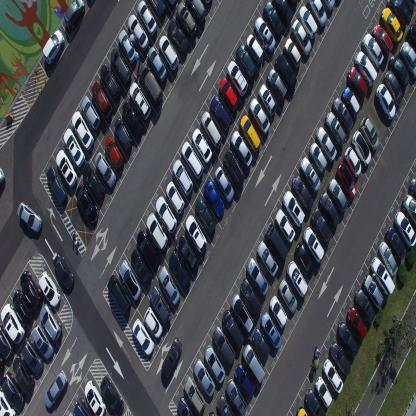car: (139, 62, 163, 108), (107, 272, 132, 314), (230, 292, 254, 335), (0, 303, 25, 344), (118, 258, 142, 300), (370, 255, 395, 295), (265, 222, 289, 263), (43, 370, 68, 409), (212, 325, 235, 367), (180, 141, 204, 181), (75, 184, 99, 224), (99, 375, 123, 415), (136, 228, 158, 271), (243, 343, 266, 384), (82, 162, 106, 201), (1, 371, 25, 410), (222, 308, 244, 350), (168, 250, 191, 290), (149, 284, 172, 324), (72, 110, 95, 150), (131, 317, 154, 357), (31, 321, 54, 361), (12, 353, 35, 393), (274, 52, 297, 92), (302, 225, 325, 265), (393, 210, 416, 250), (41, 27, 65, 65), (239, 114, 261, 155), (230, 129, 252, 170), (146, 211, 168, 252), (155, 194, 177, 235), (46, 165, 68, 206), (158, 265, 180, 306), (63, 127, 85, 168), (20, 268, 42, 309), (160, 337, 182, 378), (55, 148, 78, 187), (16, 200, 42, 234), (203, 178, 225, 218), (184, 214, 206, 254), (222, 150, 244, 190), (246, 257, 268, 297), (129, 81, 151, 121), (240, 277, 262, 317), (38, 269, 60, 309), (292, 174, 314, 214), (286, 260, 309, 298), (39, 302, 62, 340), (183, 376, 206, 414), (282, 190, 305, 228), (354, 50, 377, 88), (94, 152, 118, 188), (200, 110, 221, 151), (204, 343, 225, 384), (194, 197, 216, 236), (130, 247, 152, 286), (127, 13, 149, 52), (193, 358, 215, 397), (253, 16, 276, 53), (380, 6, 403, 43), (99, 62, 120, 102), (375, 82, 396, 122), (177, 234, 199, 272), (175, 0, 197, 38), (84, 378, 106, 416), (226, 378, 248, 416), (329, 340, 351, 378), (299, 156, 321, 194), (389, 52, 411, 90), (260, 311, 281, 350), (91, 80, 112, 119), (53, 252, 74, 291), (249, 96, 270, 135), (291, 18, 312, 57), (319, 191, 340, 230), (336, 160, 357, 199), (136, 0, 158, 37), (337, 321, 359, 358), (315, 125, 337, 162), (324, 110, 346, 147), (362, 272, 384, 309), (209, 94, 230, 132), (122, 100, 143, 138), (158, 34, 179, 72), (226, 59, 247, 97), (263, 0, 284, 38), (332, 95, 353, 133), (21, 339, 43, 375), (322, 358, 344, 394), (354, 288, 376, 324), (274, 208, 296, 244), (362, 31, 384, 67), (213, 167, 234, 204), (257, 241, 278, 278), (81, 93, 102, 130), (147, 45, 168, 82), (109, 47, 130, 84), (235, 44, 256, 81), (311, 208, 332, 245), (327, 177, 348, 214), (377, 240, 398, 277), (166, 20, 188, 55), (191, 127, 211, 165), (172, 160, 192, 198), (117, 27, 137, 65), (352, 129, 372, 167), (234, 363, 255, 399), (372, 23, 394, 57), (12, 289, 32, 326), (295, 241, 315, 278), (266, 67, 287, 102), (385, 225, 406, 260), (386, 0, 411, 29), (165, 180, 185, 216), (218, 76, 238, 112), (278, 279, 298, 315), (104, 135, 124, 171), (359, 116, 379, 152), (346, 306, 367, 340), (298, 4, 318, 39), (383, 69, 403, 104), (143, 304, 163, 338), (348, 65, 368, 99), (399, 40, 415, 81), (269, 295, 287, 330), (64, 0, 85, 30), (308, 141, 327, 174), (341, 85, 360, 118), (115, 117, 132, 153), (258, 82, 276, 116), (344, 145, 362, 179), (252, 327, 271, 358), (283, 36, 301, 68), (271, 0, 294, 25), (315, 375, 332, 408), (307, 0, 327, 28), (0, 321, 14, 360), (245, 33, 263, 63), (305, 388, 325, 415), (186, 0, 207, 25), (402, 194, 416, 230), (0, 383, 15, 415), (216, 394, 236, 415), (147, 0, 167, 20), (74, 397, 94, 415), (177, 395, 194, 415), (408, 22, 415, 53), (321, 0, 335, 13), (408, 176, 416, 198), (295, 404, 308, 415), (0, 166, 6, 189), (164, 0, 177, 8), (0, 356, 4, 372), (207, 410, 217, 416), (67, 410, 75, 415)
